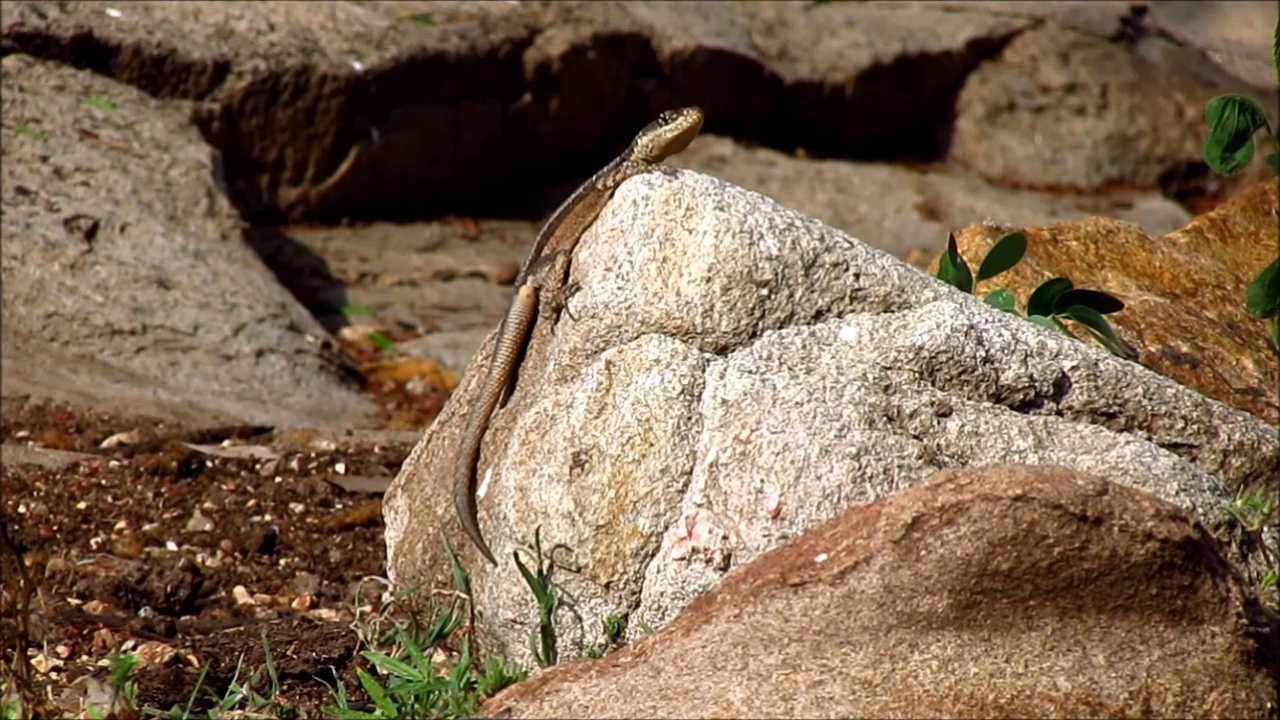body: (453, 141, 631, 565)
head: (632, 104, 703, 165)
